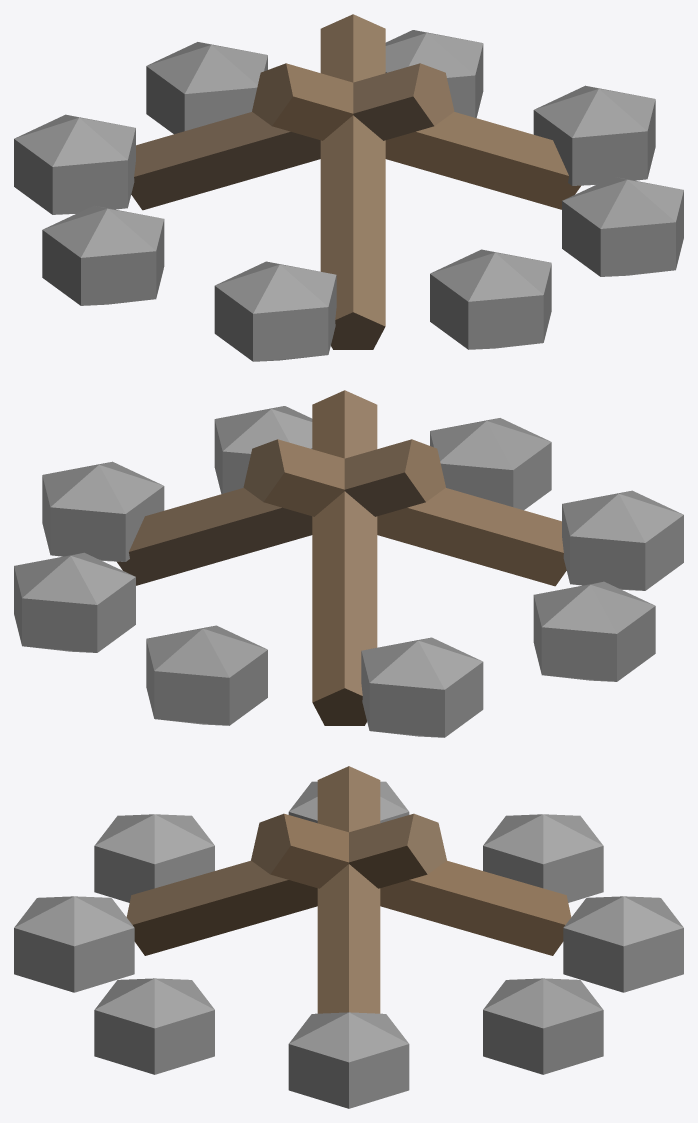
Rendered from campfire.glb.
The picture shows the model from 3 angles, top to bottom: view 1: azimuth 30°, elevation 25°; view 2: azimuth 150°, elevation 25°; view 3: azimuth 270°, elevation 25°; orthographic projection. The views are drawn at different scales.
Parts seen in each view (by area): view 1: campfire2; view 2: campfire2; view 3: campfire2.
Boxes of the visible parts, box(x1,y1,x2,y2) form: campfire2: box(14, 14, 683, 361); campfire2: box(14, 390, 683, 737); campfire2: box(14, 766, 683, 1108).
Bounding box in the file's own units: 1.81 × 0.5987 × 1.83.
